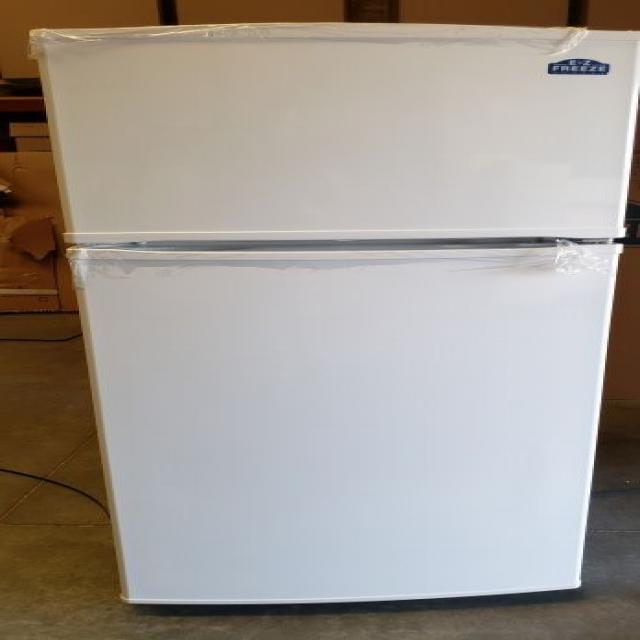refrigerator: (31, 26, 640, 602)
